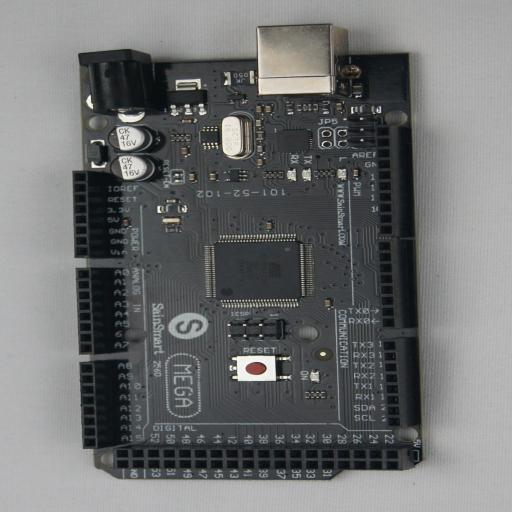Arduino Mega 2560 -Black-: (73, 23, 431, 480)
